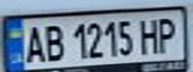1: (66, 19, 87, 60), (103, 18, 121, 57)
2: (84, 19, 106, 60)
5: (115, 17, 139, 56)
A: (21, 22, 48, 64)
B: (39, 21, 66, 63)
H: (136, 16, 163, 55)
P: (154, 15, 181, 54)
